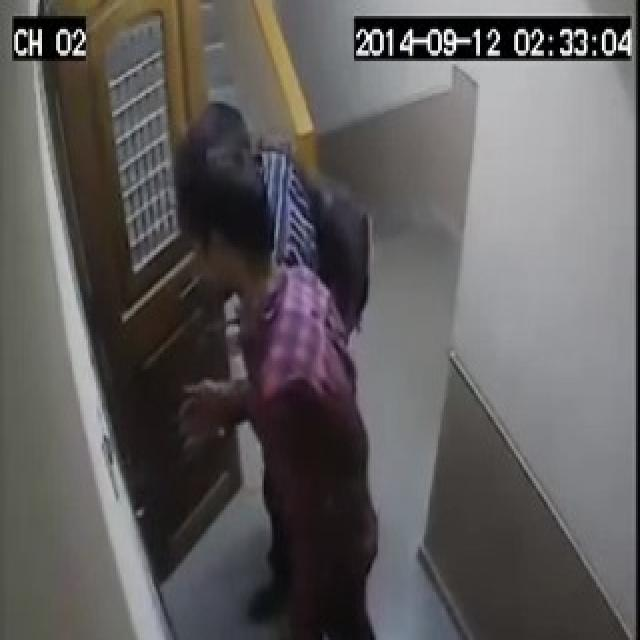burglary: (74, 143, 363, 565)
